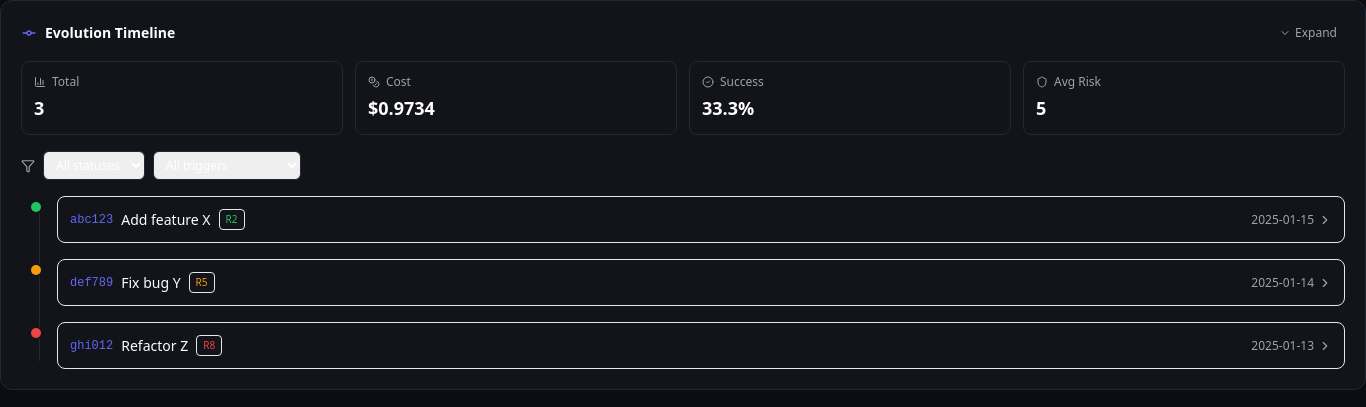
Scenario: EvolutionTimeline › clears filters
This screenshot has width=1366, height=407.
Expected: the text "Add feature X" is shown, top-left (121, 210), bottom-right (210, 230)
Select "completed" in the 1st dropdown at coordinates (94, 166), box top-left (43, 151), bottom-right (145, 180)
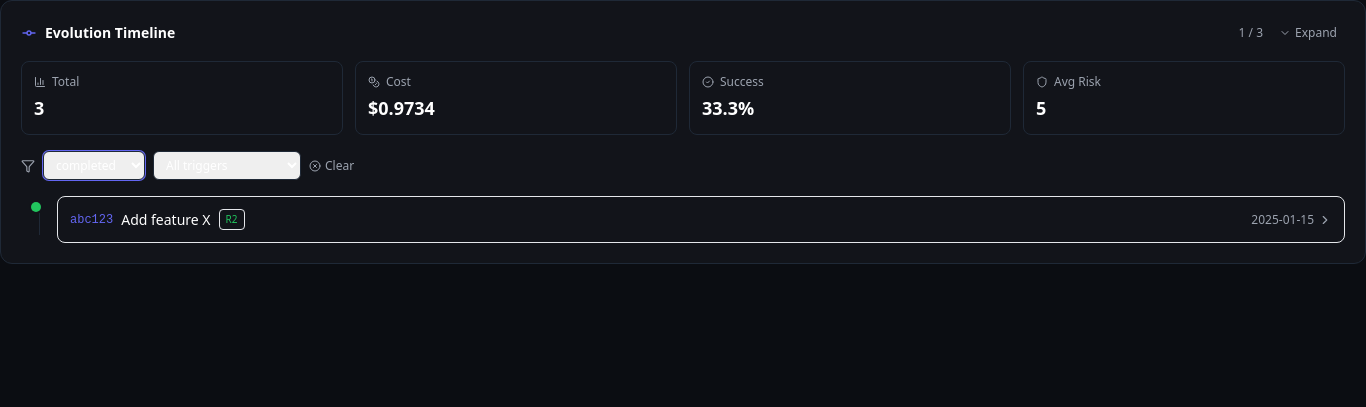
Result: the button "Fix bug Y" is gone
Click the button "Clear" at coordinates (332, 166), box top-left (309, 158), bottom-right (354, 174)
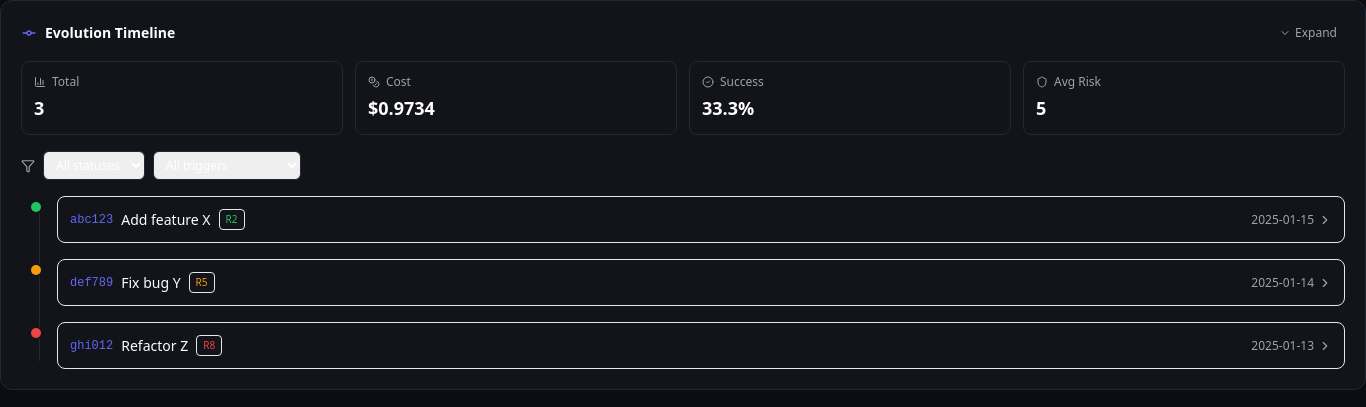
Result: the text "Fix bug Y" is shown at top-left (121, 272), bottom-right (181, 292)
Result: the text "Refactor Z" is shown at top-left (121, 336), bottom-right (188, 356)
